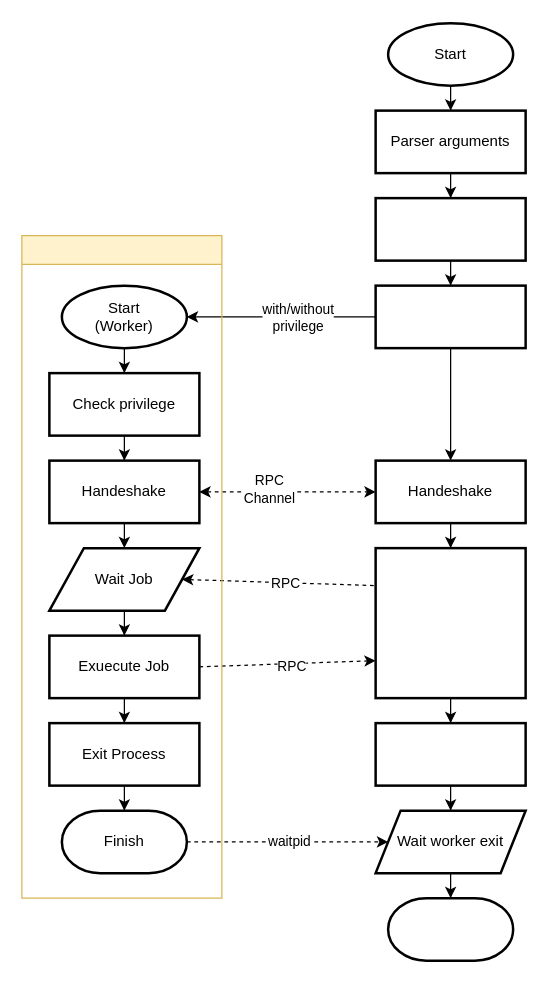
This 549x983 diagram has some shape labels left out. The shapes that lost their labels are listed below. From the top down, each one's box as (x1, y1, x2, y2) in pixels, then its label:
(374, 196, 526, 261): Start RPC Server
(374, 284, 526, 349): Spawn worker
(21, 234, 222, 898): Worker
(374, 546, 526, 699): Job dispatch
(374, 721, 526, 786): Stop RPC Server
(386, 896, 514, 961): Exit
